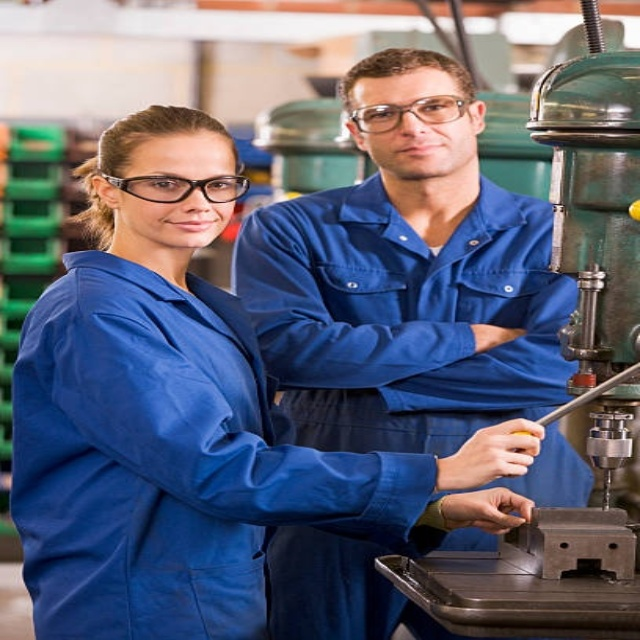Gafas: (103, 171, 250, 203), (348, 96, 473, 133)
Sin_guantes: (448, 418, 547, 488), (432, 486, 537, 534)
Sin_mascara: (151, 213, 220, 244), (389, 140, 458, 166)
